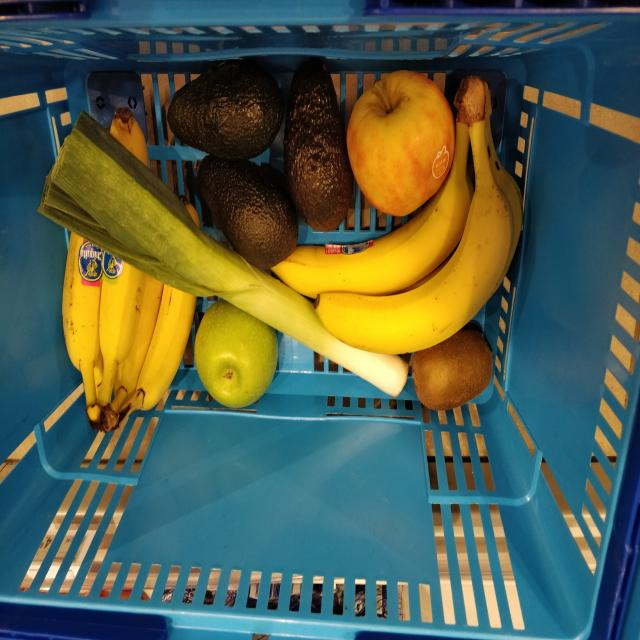avocado: (194, 155, 299, 275), (285, 59, 357, 233), (165, 61, 284, 161)
banana: (271, 77, 522, 357), (61, 228, 204, 434)
greenapple: (193, 299, 282, 412)
kiwi: (409, 319, 497, 411)
leek: (37, 113, 412, 397)
